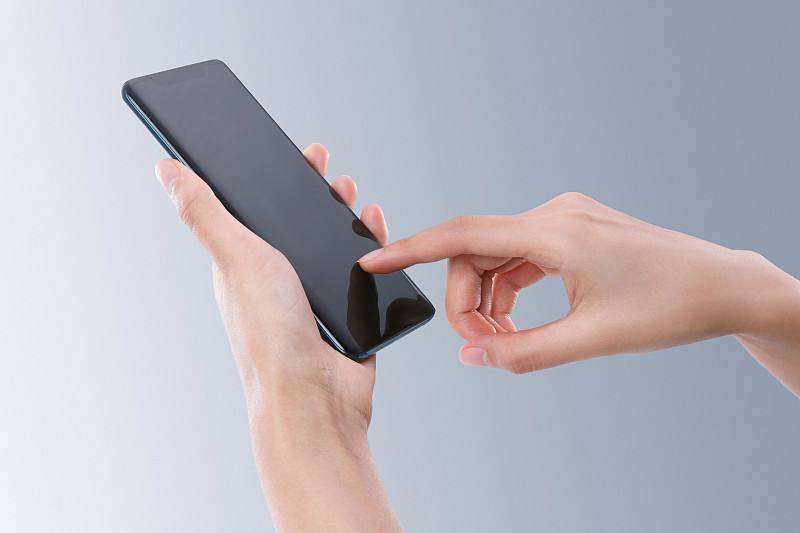reading: (118, 55, 435, 448)
